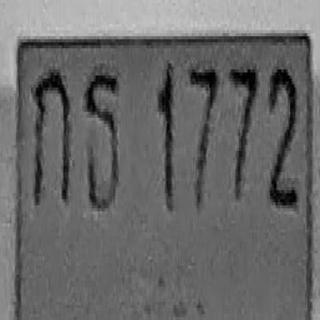A01: (33, 68, 70, 204)
A24: (84, 68, 119, 210)
N01: (157, 62, 174, 210)
N02: (268, 65, 296, 207)
N07: (189, 63, 218, 208), (229, 63, 258, 199)
